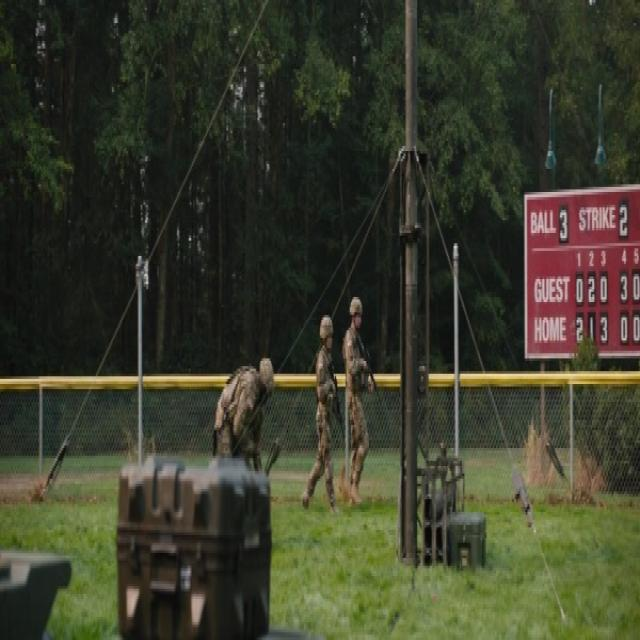rifle: (358, 335, 385, 411)
